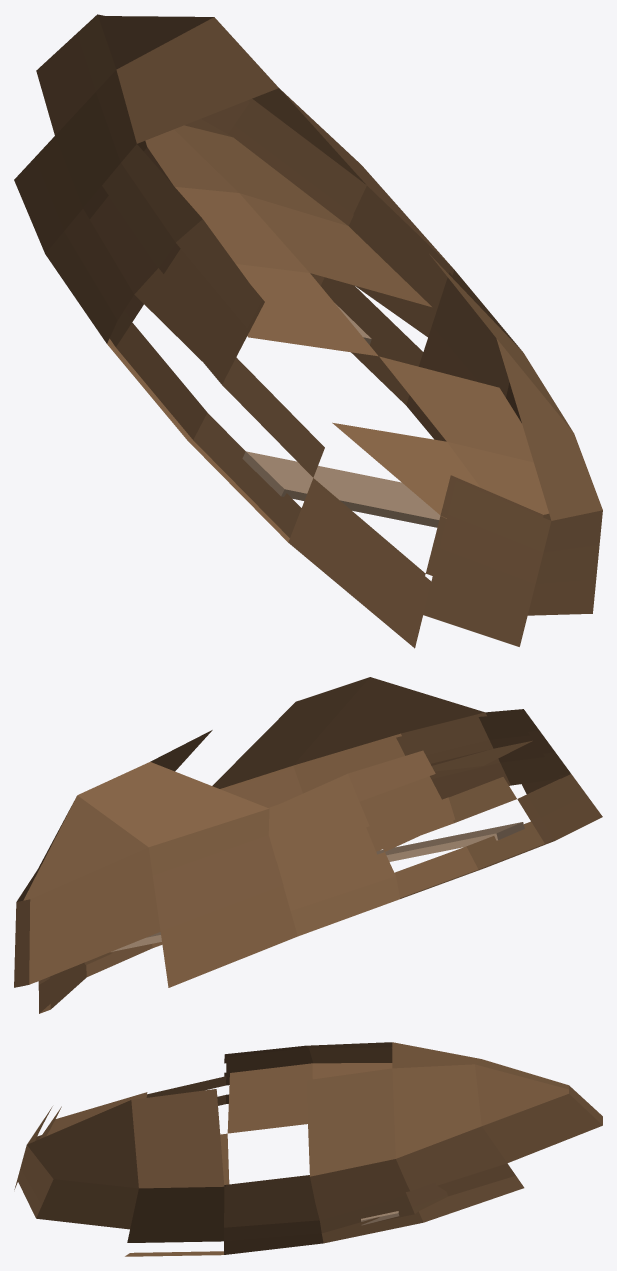
File: 09 Boat_Broken_6.FBX
The picture shows the model from 3 angles, top to bottom: view 1: azimuth 30°, elevation 25°; view 2: azimuth 150°, elevation 25°; view 3: azimuth 270°, elevation 25°; orthographic projection. The views are drawn at different scales.
Visible parts, largest first — view 1: Cube014; view 2: Cube014; view 3: Cube014.
Boxes of the visible parts, x1=… form: Cube014: x1=14, y1=14, x2=602, y2=648; Cube014: x1=14, y1=677, x2=602, y2=1013; Cube014: x1=14, y1=1042, x2=602, y2=1256.
Size of the model in its own units: 378 by 362 by 1026.
